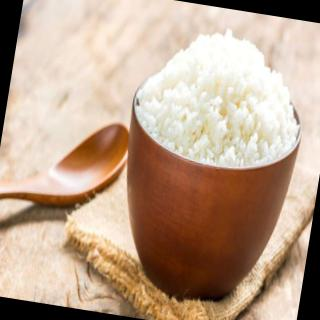Nasi: (127, 13, 315, 180)
